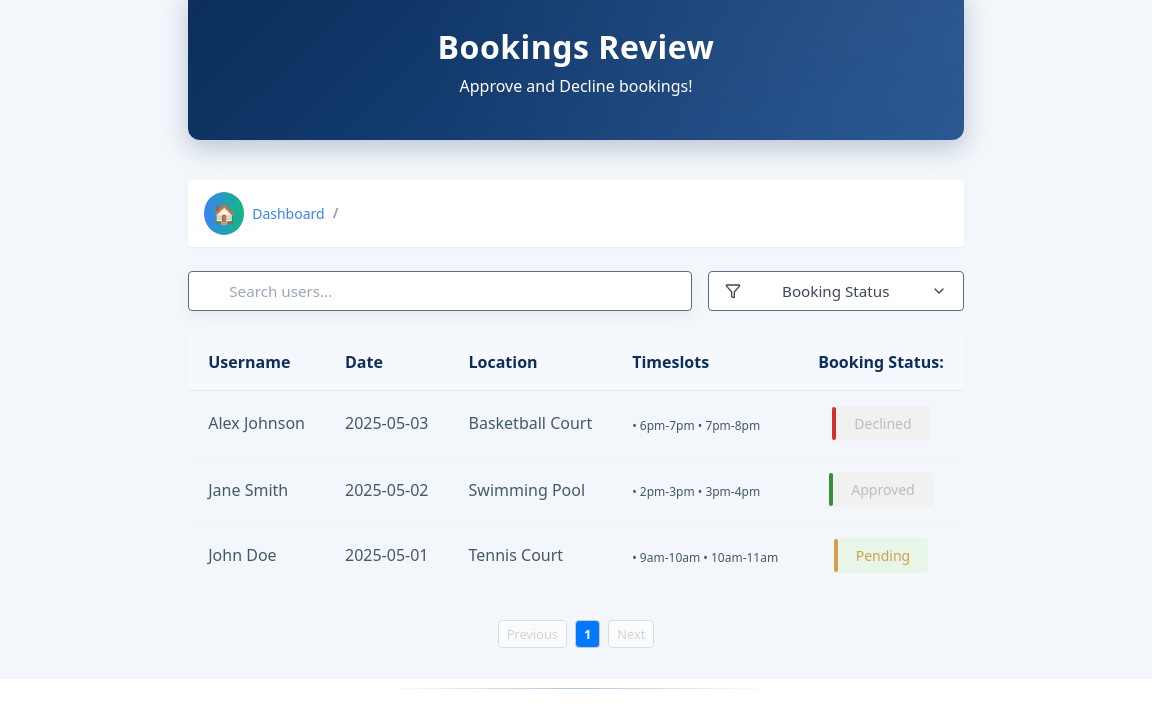
Scenario: BookingsPage Component › filters bookings by status
(page scrolled)
Expected: the text "John Doe" is shown, x1=188 y1=523 x2=325 y2=588
# Open filter dropdown
Click the button "Booking status".
click(836, 291)  # box x1=708 y1=271 x2=964 y2=311
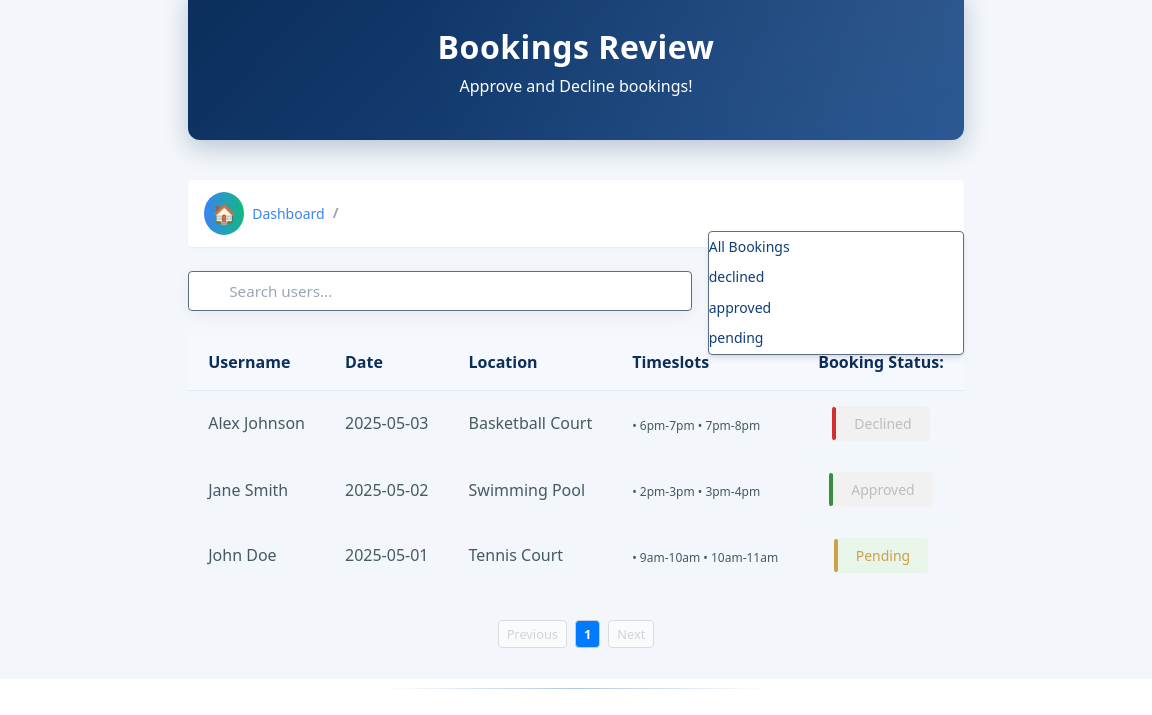
# Get the one inside dropdown (it's a list item)
Click the list item "approved".
click(740, 307)  # box x1=709 y1=298 x2=771 y2=317
(page scrolled)
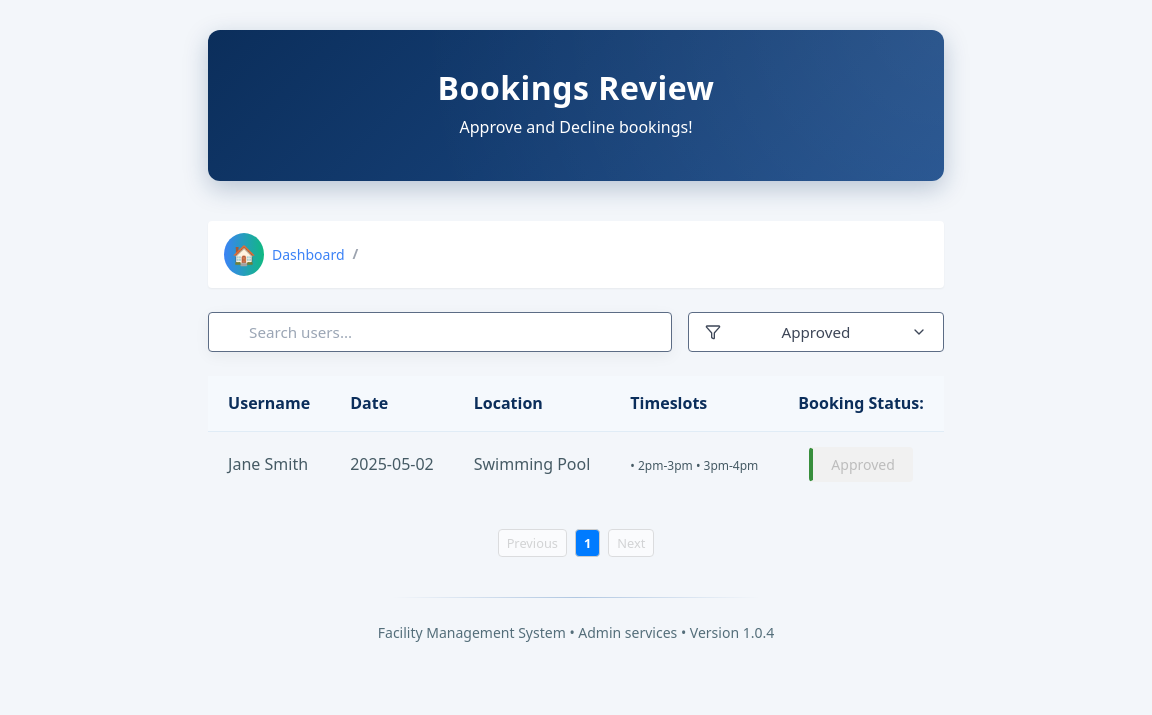
Expected: the text "Jane Smith" is shown, x1=208 y1=432 x2=330 y2=497
Now the text "John Doe" is gone
Now the text "Alex Johnson" is gone
